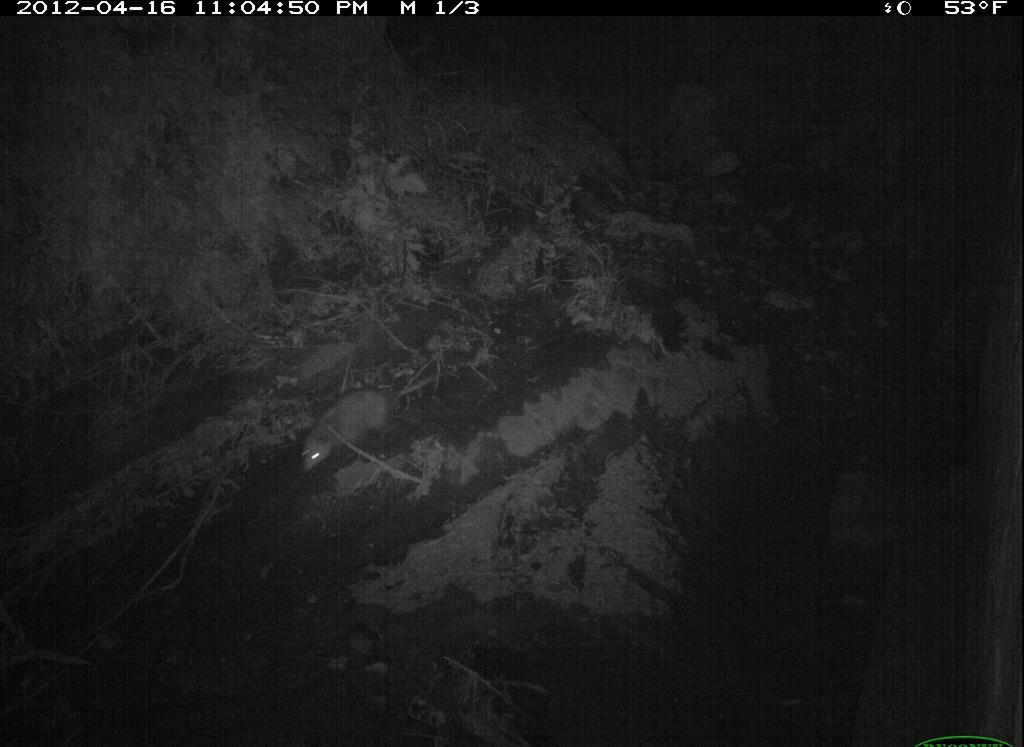opossum: (289, 367, 457, 481)
